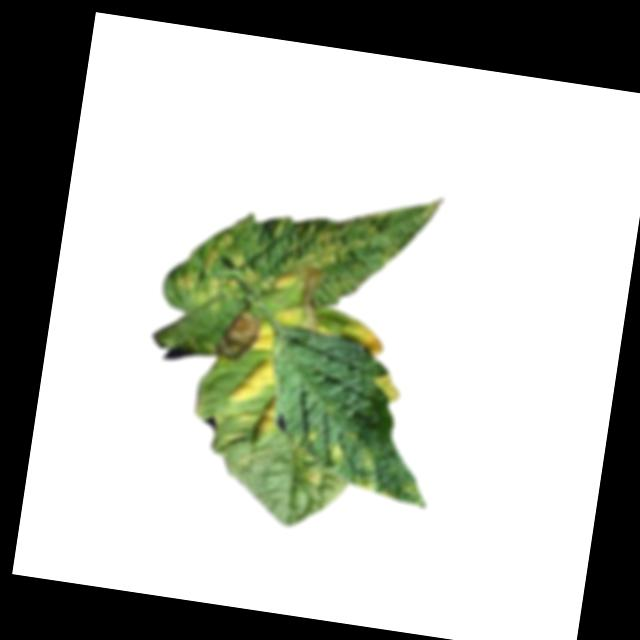Leaf_Mold: (171, 226, 258, 312), (279, 213, 355, 283), (222, 352, 280, 408), (242, 395, 281, 441), (340, 319, 387, 357), (346, 448, 383, 494), (274, 303, 311, 332), (248, 319, 275, 358), (369, 373, 402, 404), (293, 466, 322, 489), (323, 438, 346, 465)
